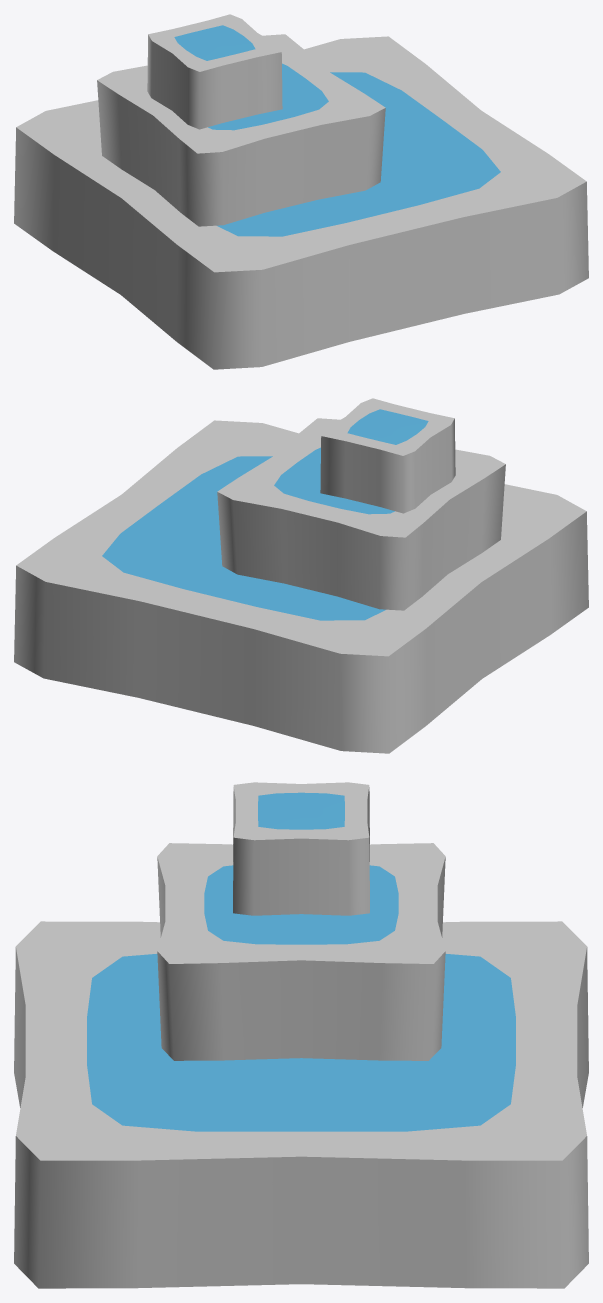
Rendered from fountain01_s02.FBX.
3 renders of one model, top to bottom at view 1: azimuth 30°, elevation 25°; view 2: azimuth 150°, elevation 25°; view 3: azimuth 270°, elevation 25°, orthographic. The views are drawn at different scales.
Visible parts, largest first — view 1: fountain01_s02; view 2: fountain01_s02; view 3: fountain01_s02.
Part boxes in pixels (bbox=[...]): fountain01_s02: bbox=[14, 14, 588, 369]; fountain01_s02: bbox=[14, 398, 588, 753]; fountain01_s02: bbox=[14, 782, 588, 1288].
Size of the model in its own units: 231 by 233 by 135.
Materials: 1 (1 with a texture image).
